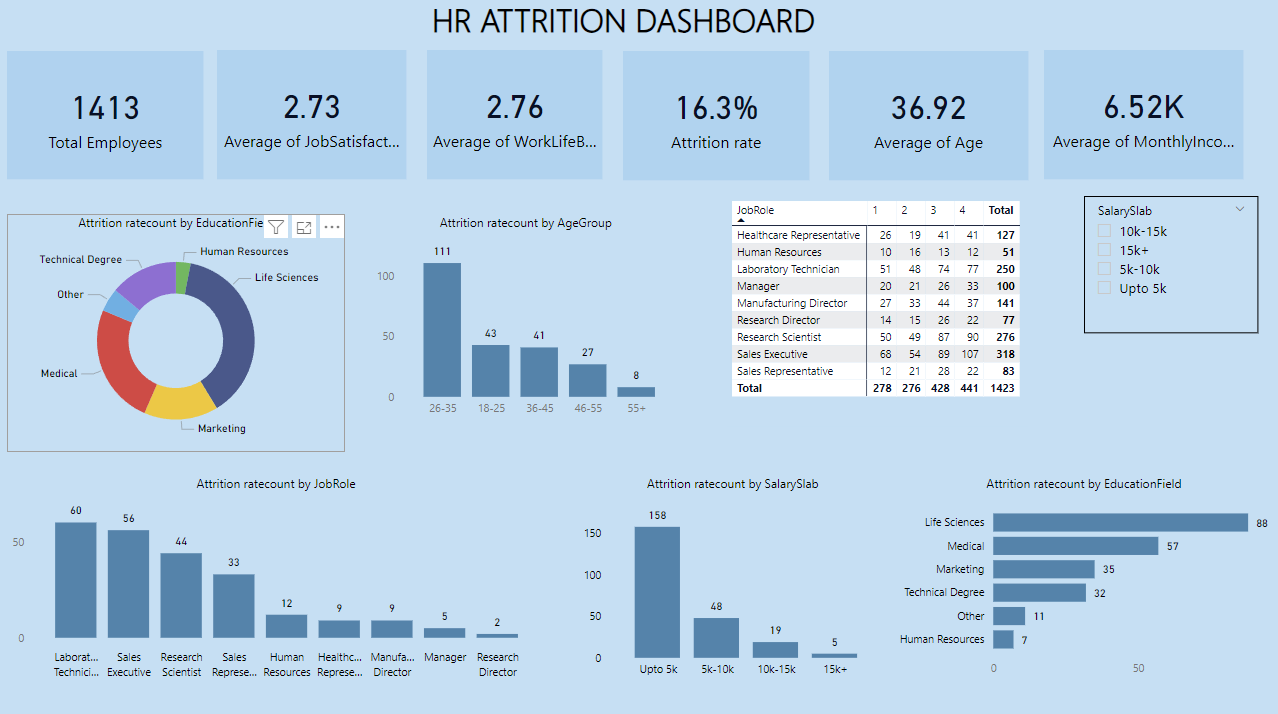

The page's visual inventory and layout, read from the dashboard file:
{"tool":"powerbi","page":{"name":"Page 1","canvas":[1280,720],"ordinal":0},"visuals":[{"type":"textbox","box":[372.9,0,503.9,59.5],"z":0},{"type":"card","fields":{"Values":["Measures (2).Total Employees"]},"box":[10.5,59.2,196.3,127.8],"z":1000},{"type":"card","fields":{"Values":["Avg(HR_Analytics.JobSatisfaction)"]},"box":[219.5,58.1,189.3,128.9],"z":2000},{"type":"card","fields":{"Values":["Avg(HR_Analytics.WorkLifeBalance)"]},"box":[428.6,58.1,175.4,128.9],"z":3000},{"type":"card","fields":{"Values":["Measures (2).Attrition rate"]},"box":[624.9,59.2,185.8,128.9],"z":4000},{"type":"card","fields":{"Values":["Avg(HR_Analytics.Age)"]},"box":[830.5,59.2,198.6,128.9],"z":5000},{"type":"card","fields":{"Values":["Avg(HR_Analytics.MonthlyIncome)"]},"box":[1044.2,58.1,198.6,128.9],"z":6000},{"type":"donutChart","fields":{"Series":["HR_Analytics.EducationField"],"Y":["Measures (2).Attrition ratecount"]},"box":[10.5,221.9,336.8,237],"z":7000},{"type":"clusteredColumnChart","fields":{"Y":["Measures (2).Attrition ratecount"],"Category":["HR_Analytics.AgeGroup"]},"box":[372.8,221.9,309,211.4],"z":8000},{"type":"pivotTable","fields":{"Rows":["HR_Analytics.JobRole"],"Columns":["HR_Analytics.JobSatisfaction"],"Values":["CountNonNull(HR_Analytics.Attrition count)"]},"box":[728.7,203.6,300.3,229.8],"z":9000},{"type":"clusteredColumnChart","fields":{"Y":["Measures (2).Attrition ratecount"],"Category":["HR_Analytics.JobRole"]},"box":[10.5,482,536.6,211.4],"z":10000},{"type":"clusteredColumnChart","fields":{"Y":["Measures (2).Attrition ratecount"],"Category":["HR_Analytics.SalarySlab"]},"box":[579.6,482,309,211.4],"z":11000},{"type":"clusteredBarChart","fields":{"Category":["HR_Analytics.EducationField"],"Y":["Measures (2).Attrition ratecount"]},"box":[889,482,391,211],"z":12000},{"type":"slicer","fields":{"Values":["HR_Analytics.SalarySlab"]},"box":[1084.9,203.3,174.2,137.1],"z":13000}]}

Visuals, with their boxes in screenshot pixels (x1, y1, x2, y2), scaled from the page's 1280x720 canvas onto the 1278x714 screenshot:
textbox: rect(372, 0, 875, 59)
card - Measures (2).Total Employees: rect(10, 59, 206, 185)
card - Avg(HR_Analytics.JobSatisfaction): rect(219, 58, 408, 185)
card - Avg(HR_Analytics.WorkLifeBalance): rect(428, 58, 603, 185)
card - Measures (2).Attrition rate: rect(624, 59, 809, 187)
card - Avg(HR_Analytics.Age): rect(829, 59, 1027, 187)
card - Avg(HR_Analytics.MonthlyIncome): rect(1043, 58, 1241, 185)
donutChart - HR_Analytics.EducationField x Measures (2).Attrition ratecount: rect(10, 220, 347, 455)
clusteredColumnChart - Measures (2).Attrition ratecount x HR_Analytics.AgeGroup: rect(372, 220, 681, 430)
pivotTable - HR_Analytics.JobRole x HR_Analytics.JobSatisfaction: rect(728, 202, 1027, 430)
clusteredColumnChart - Measures (2).Attrition ratecount x HR_Analytics.JobRole: rect(10, 478, 546, 688)
clusteredColumnChart - Measures (2).Attrition ratecount x HR_Analytics.SalarySlab: rect(579, 478, 887, 688)
clusteredBarChart - HR_Analytics.EducationField x Measures (2).Attrition ratecount: rect(888, 478, 1277, 687)
slicer - HR_Analytics.SalarySlab: rect(1083, 202, 1257, 338)
